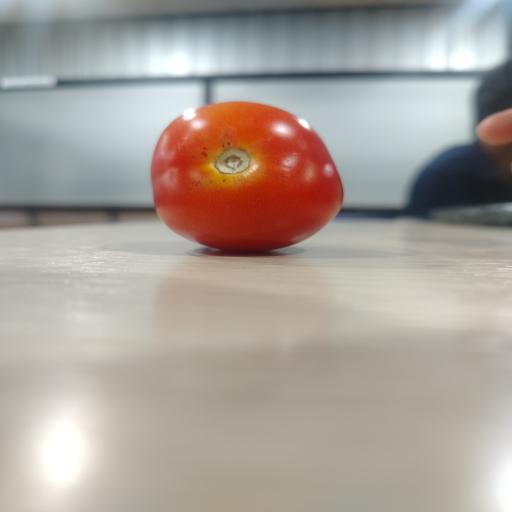ripe: (151, 102, 343, 251)
